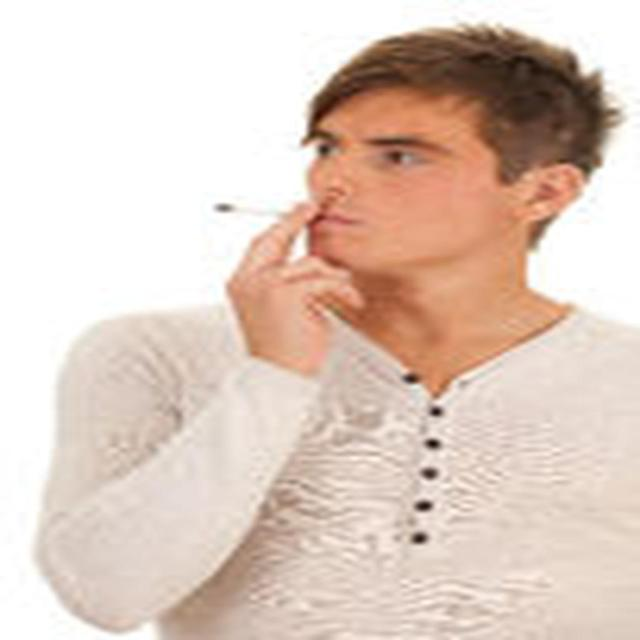smoking: (206, 14, 620, 319)
